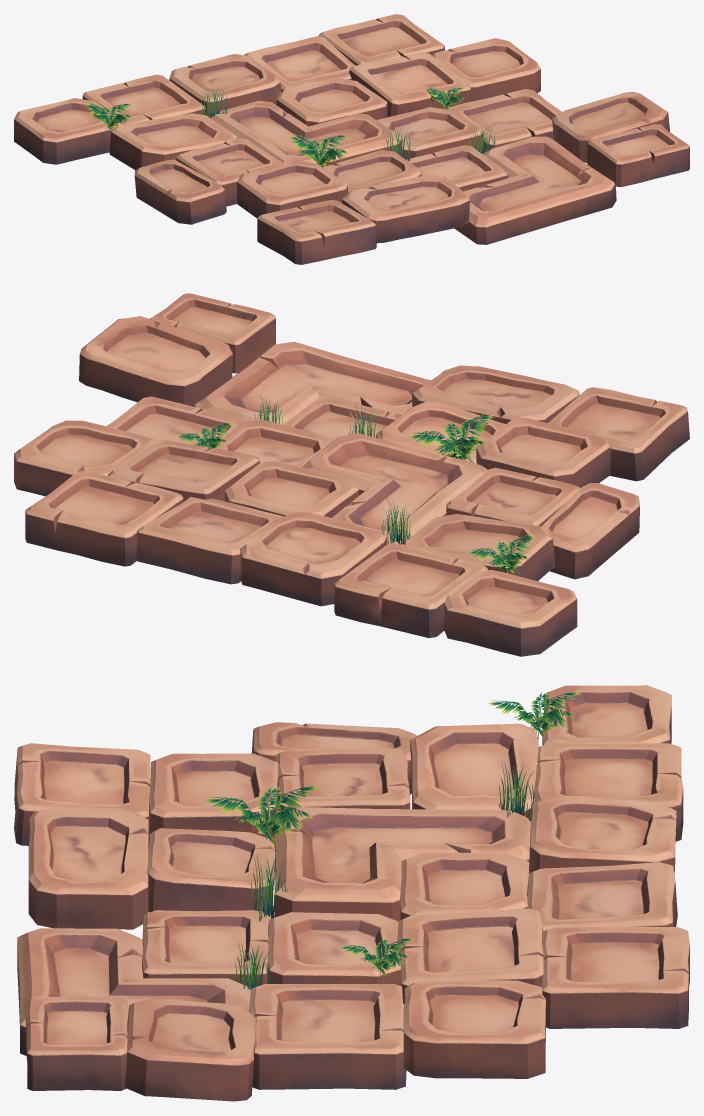
The model's file is FloorStandard.fbx.
The picture shows the model from 3 angles, top to bottom: view 1: azimuth 30°, elevation 25°; view 2: azimuth 150°, elevation 25°; view 3: azimuth 270°, elevation 25°; orthographic projection. The views are drawn at different scales.
Visible parts, largest first — view 1: Floor_Standard1, Ferns, Grass; view 2: Floor_Standard1, Ferns, Grass; view 3: Floor_Standard1, Ferns, Grass.
Part boxes in pixels (box(x1,y1,x2,y2)): Floor_Standard1: box(14, 14, 689, 264); Ferns: box(85, 86, 464, 167); Grass: box(201, 86, 496, 160); Floor_Standard1: box(14, 293, 689, 656); Ferns: box(177, 413, 534, 575); Grass: box(254, 394, 411, 544); Floor_Standard1: box(14, 685, 689, 1101); Ferns: box(204, 692, 579, 979); Grass: box(235, 760, 535, 989).
Bounding box in the file's own units: 4.41 × 0.6445 × 3.3.
